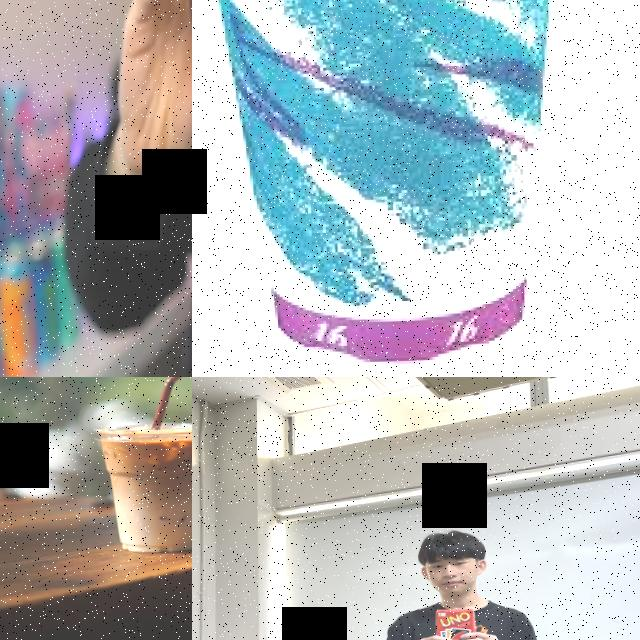cup: (192, 0, 603, 377), (82, 420, 192, 557)
